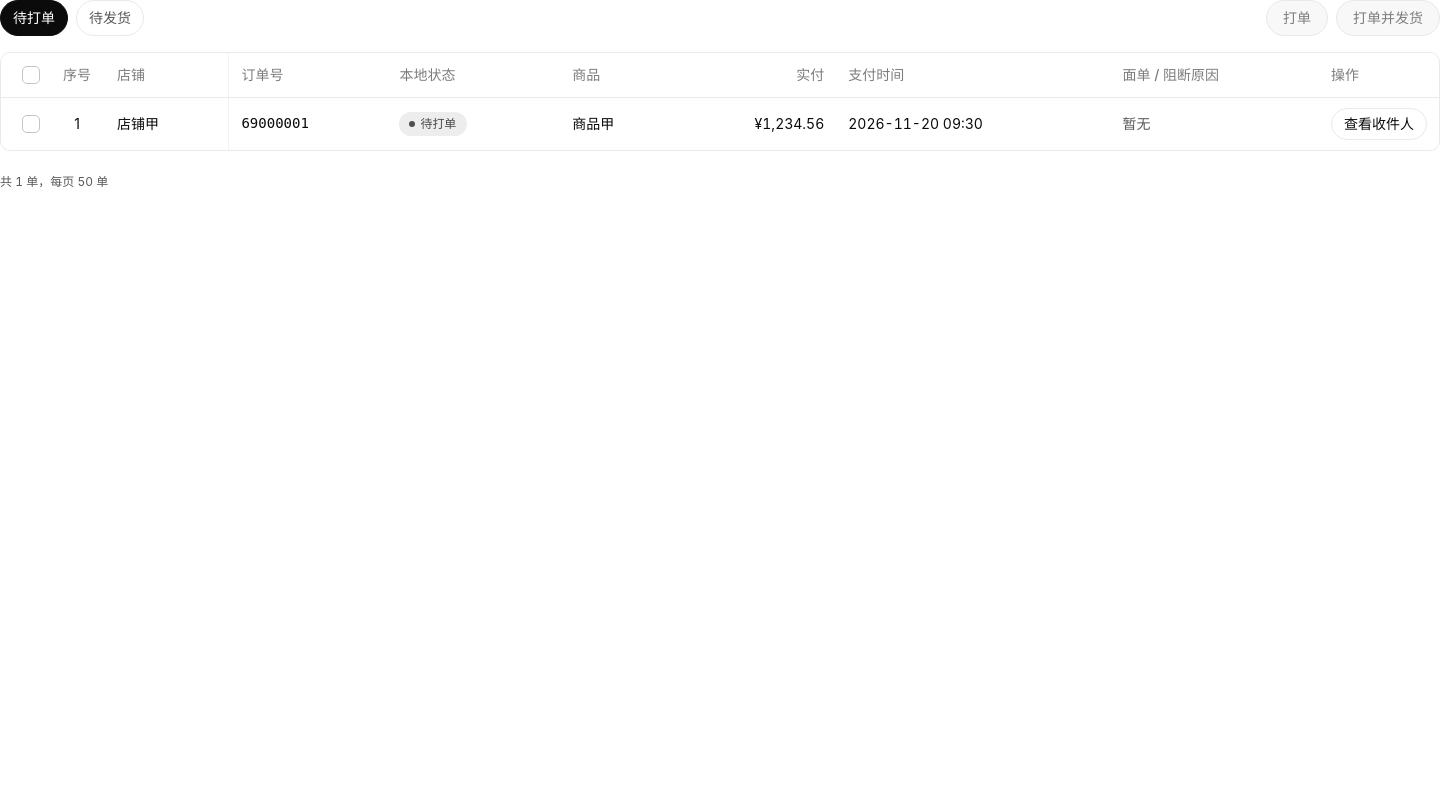
Test: 提交后的提示 › 提交失败：原因只显示在对话框里，按钮复位可以再按
Click the checkbox named "选择订单 69000001" at (31, 124), box [13,106,49,142]
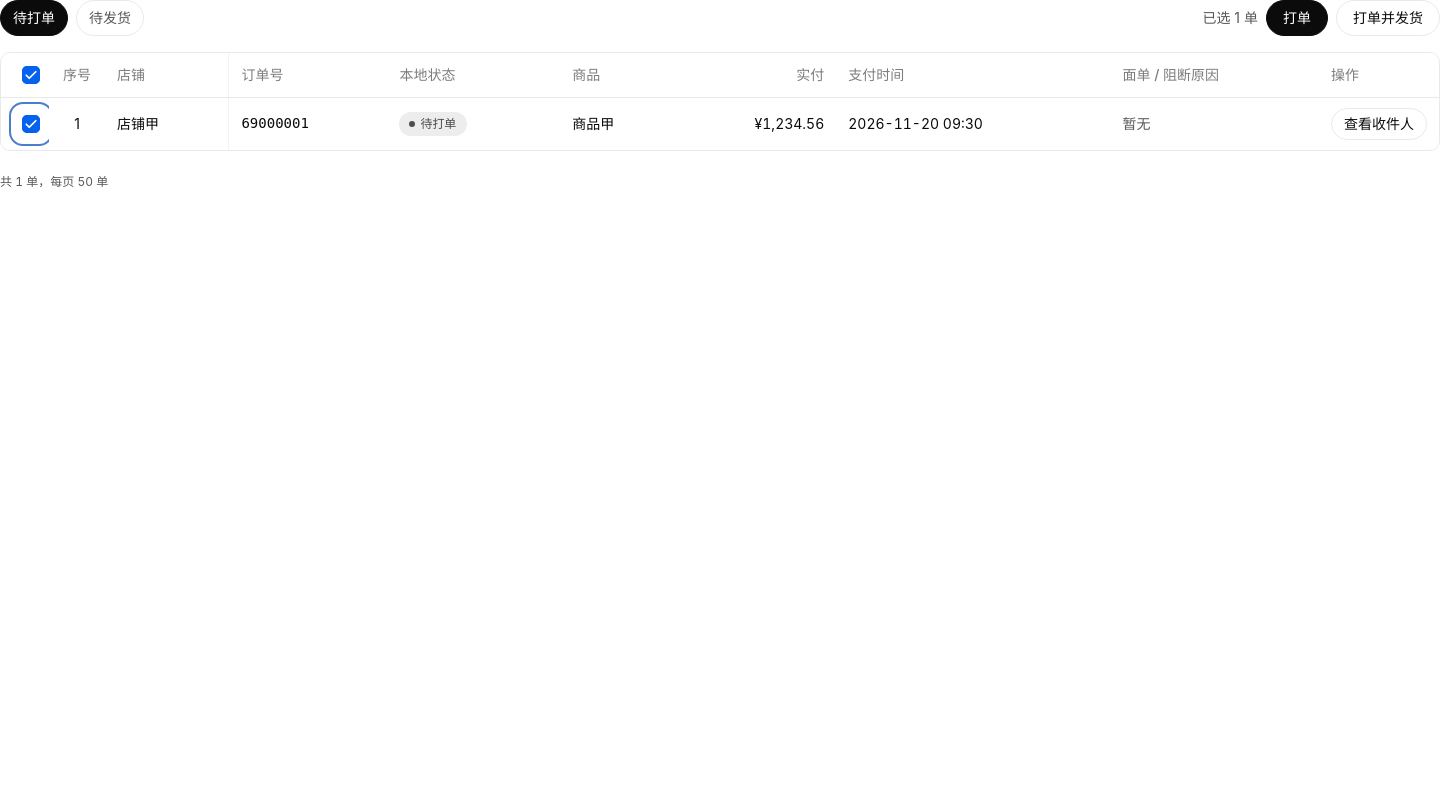
Click the button "打单" at (1297, 18), box [1266,0,1328,36]
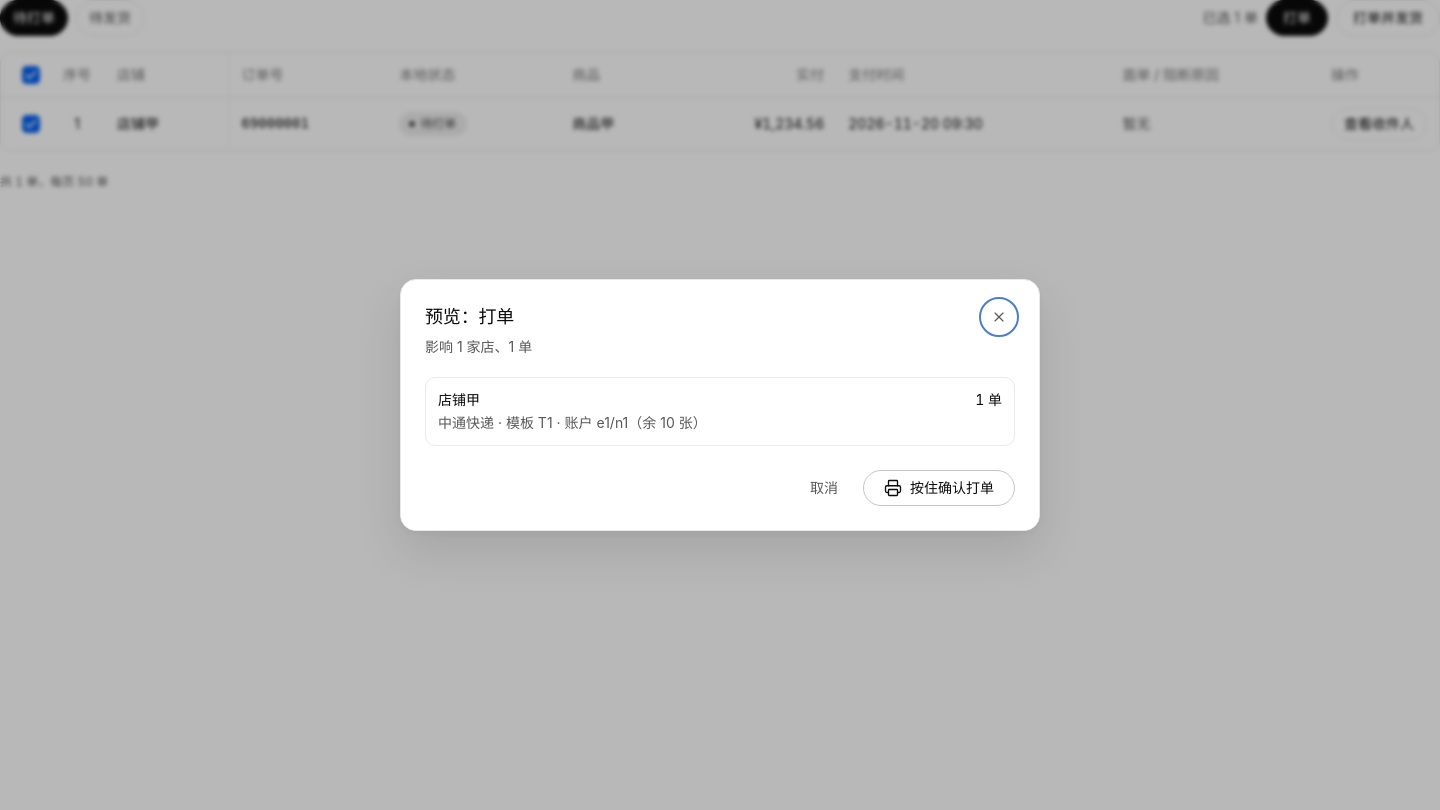
Check: the text "预览：打单" is shown, box [425,306,514,327]
Press Enter in the button "按住确认打单 按住确认打单", box [863,470,1015,506]
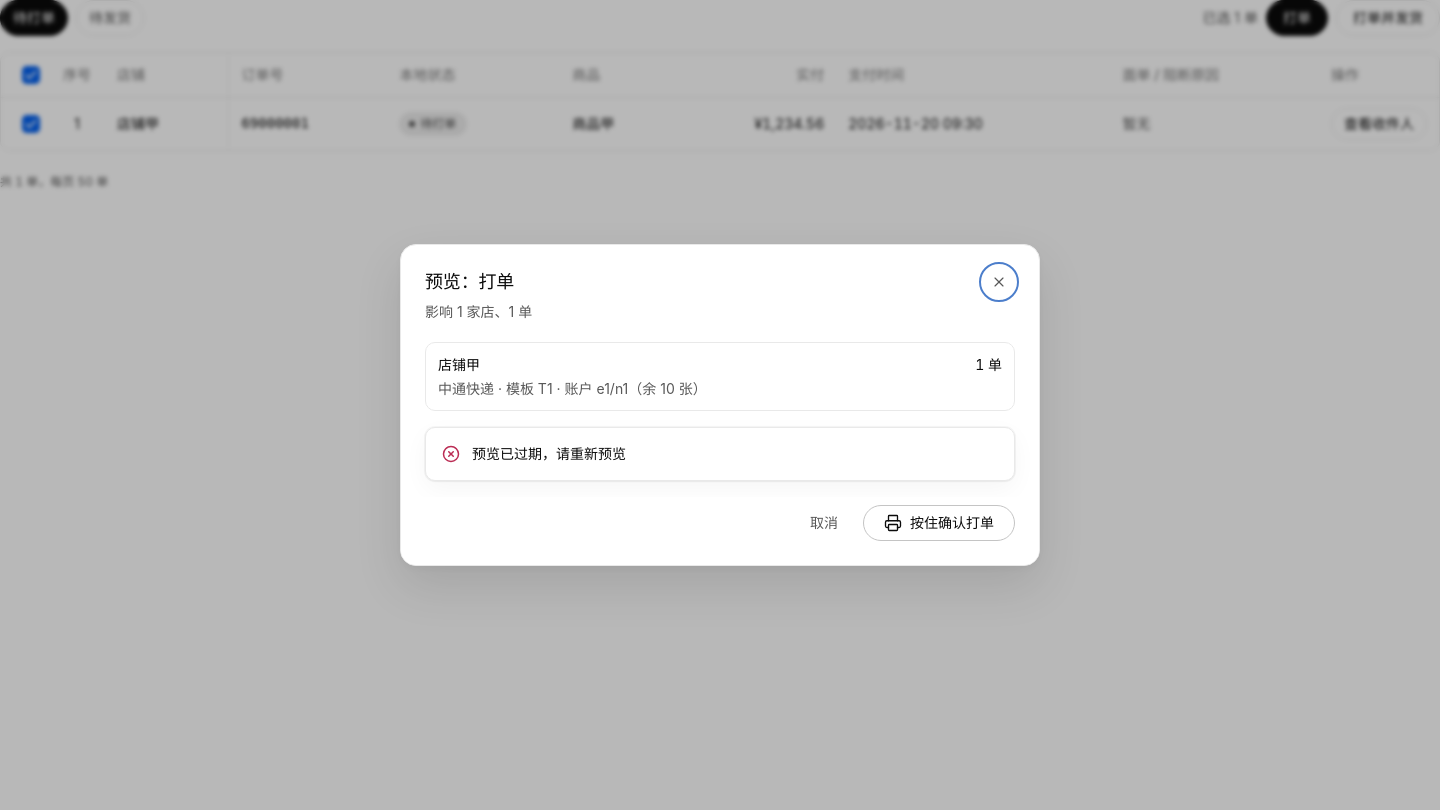
Check: the button "按住确认打单 按住确认打单" is enabled, box [863,505,1015,541]
Check: the text "预览已过期，请重新预览" is shown once, box [472,445,626,462]
